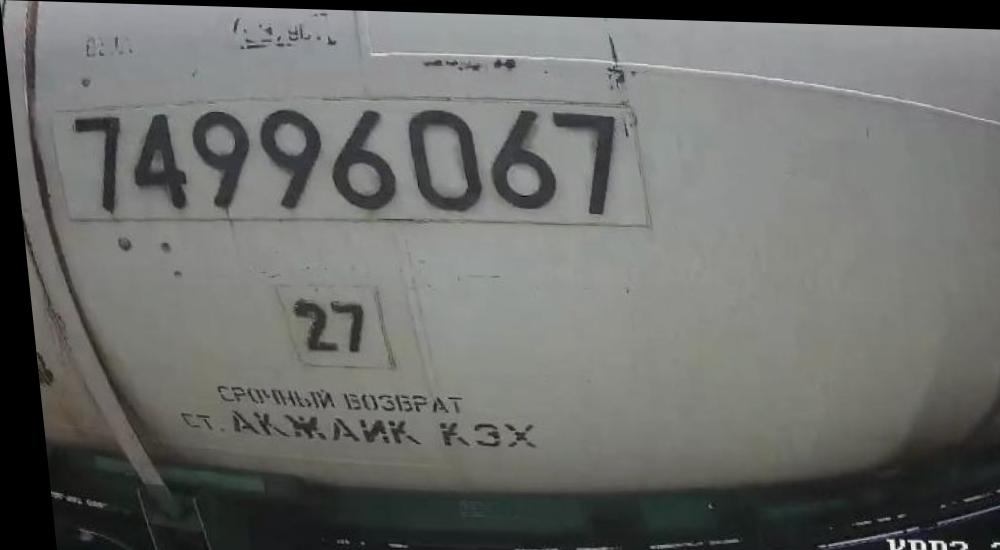Wagon-number: (65, 87, 631, 231)
